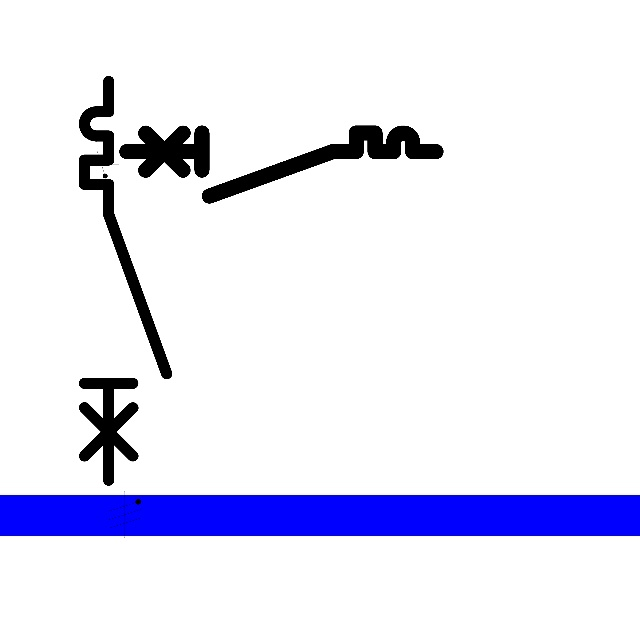interruptor_termomagnetico: (74, 71, 176, 490), (118, 125, 443, 204)
